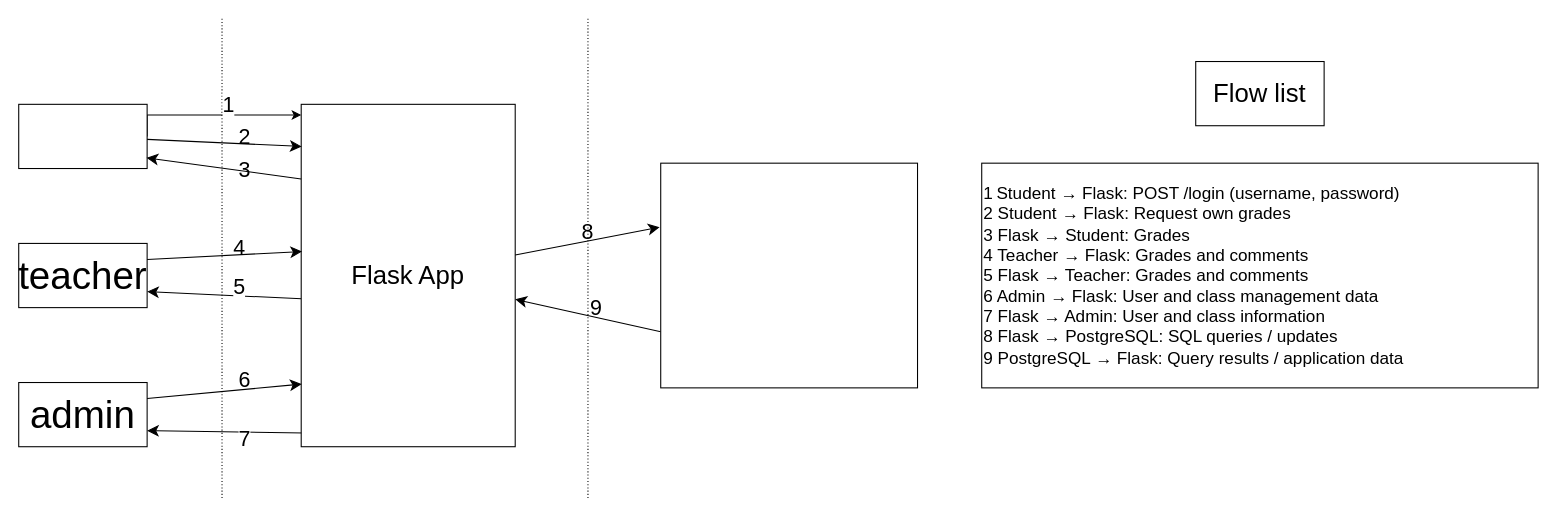
Image size: 1557x520. Some labels were removed from this diagram. The centre of each missing label's shape, as x and y in pixels:
"PostgreSQL" belongs at pixel 789 275.
"student" belongs at pixel 82 136.
